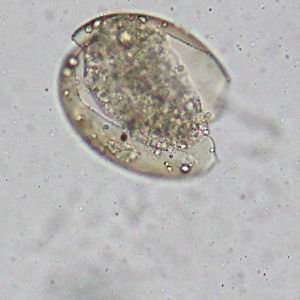Fasciola_hepatica_egg: (54, 10, 232, 182)
